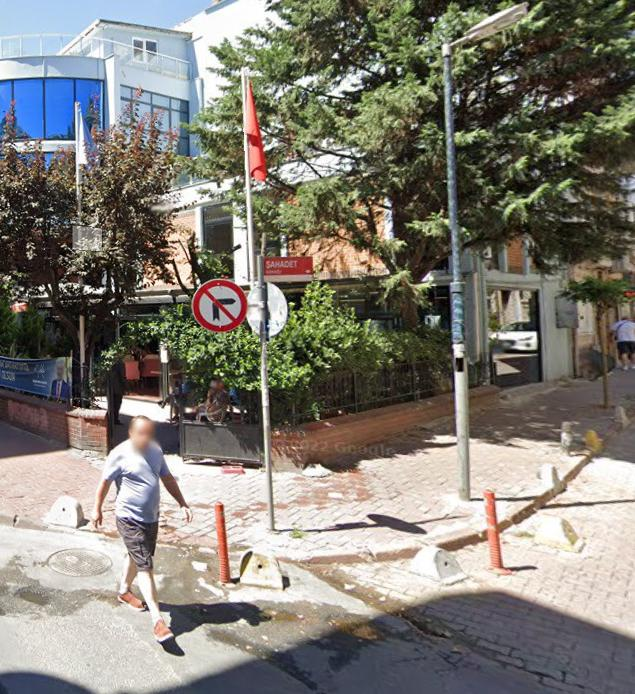rightturnsareforbidden: (193, 282, 246, 334)
